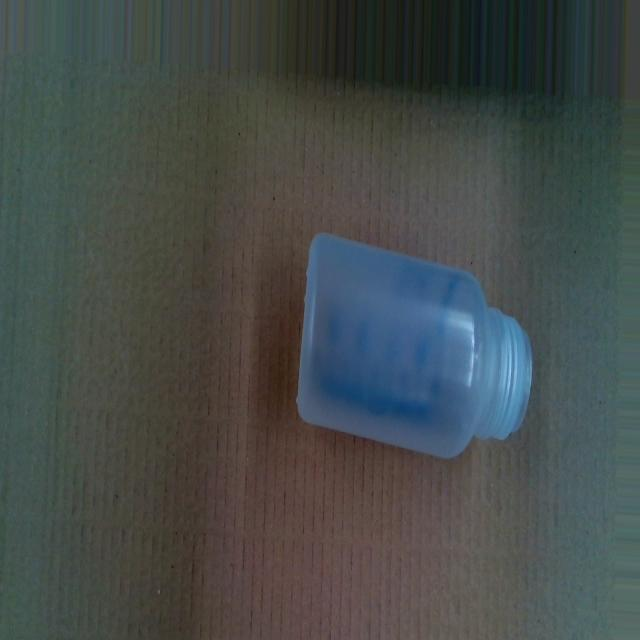bottle: (298, 233, 534, 461)
